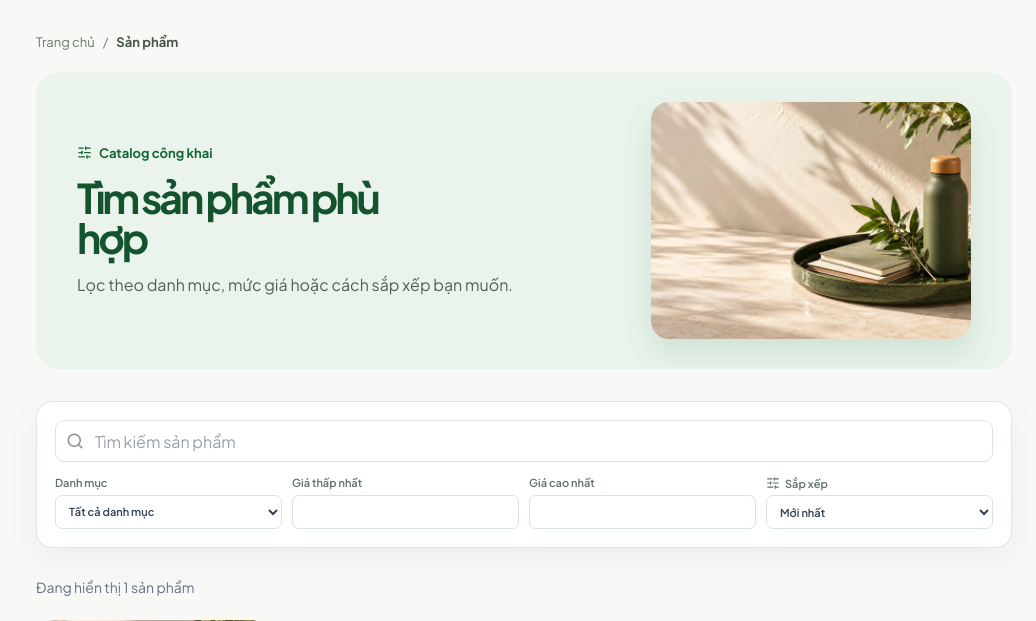
Test: StorefrontShopPage: default order uses the cursor API › changing a filter restarts from the first page and never keeps the old rows
The width and height of the screenshot is (1036, 621).
Select "Laptops" in the dropdown labelled "Danh mục": [168, 512] box [55,494,282,529]
(page scrolled)
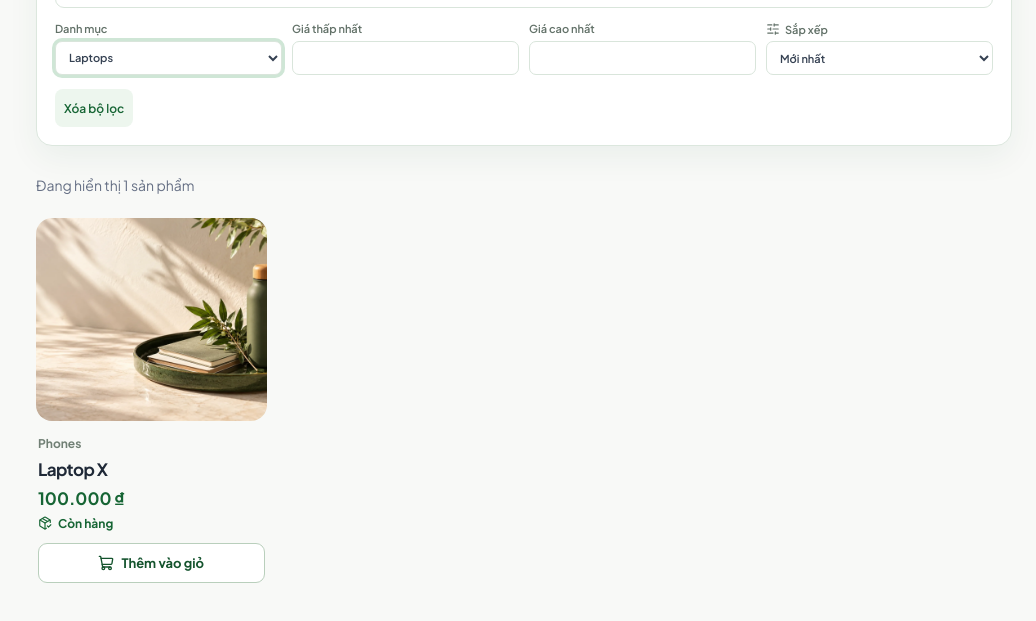
expect the link "Laptop X" is shown: met, box [38,458,107,480]
